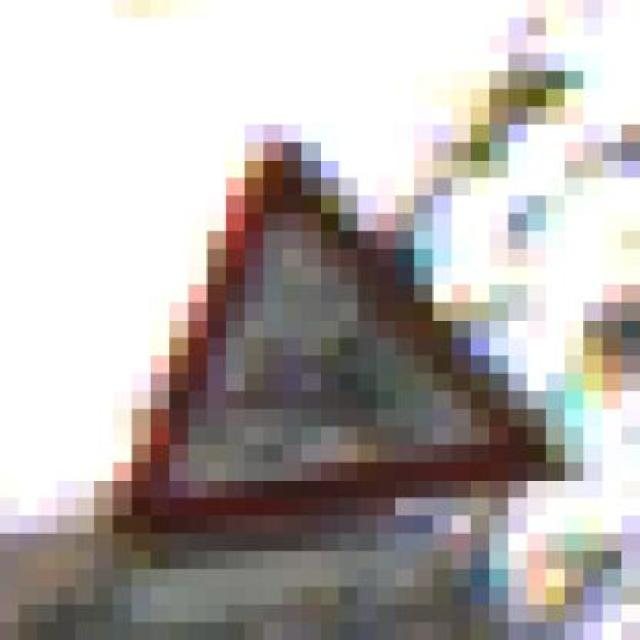CYCLE ROUTE AHEAD WARNING: (75, 142, 583, 533)
